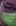with_mask: (1, 1, 16, 26)
